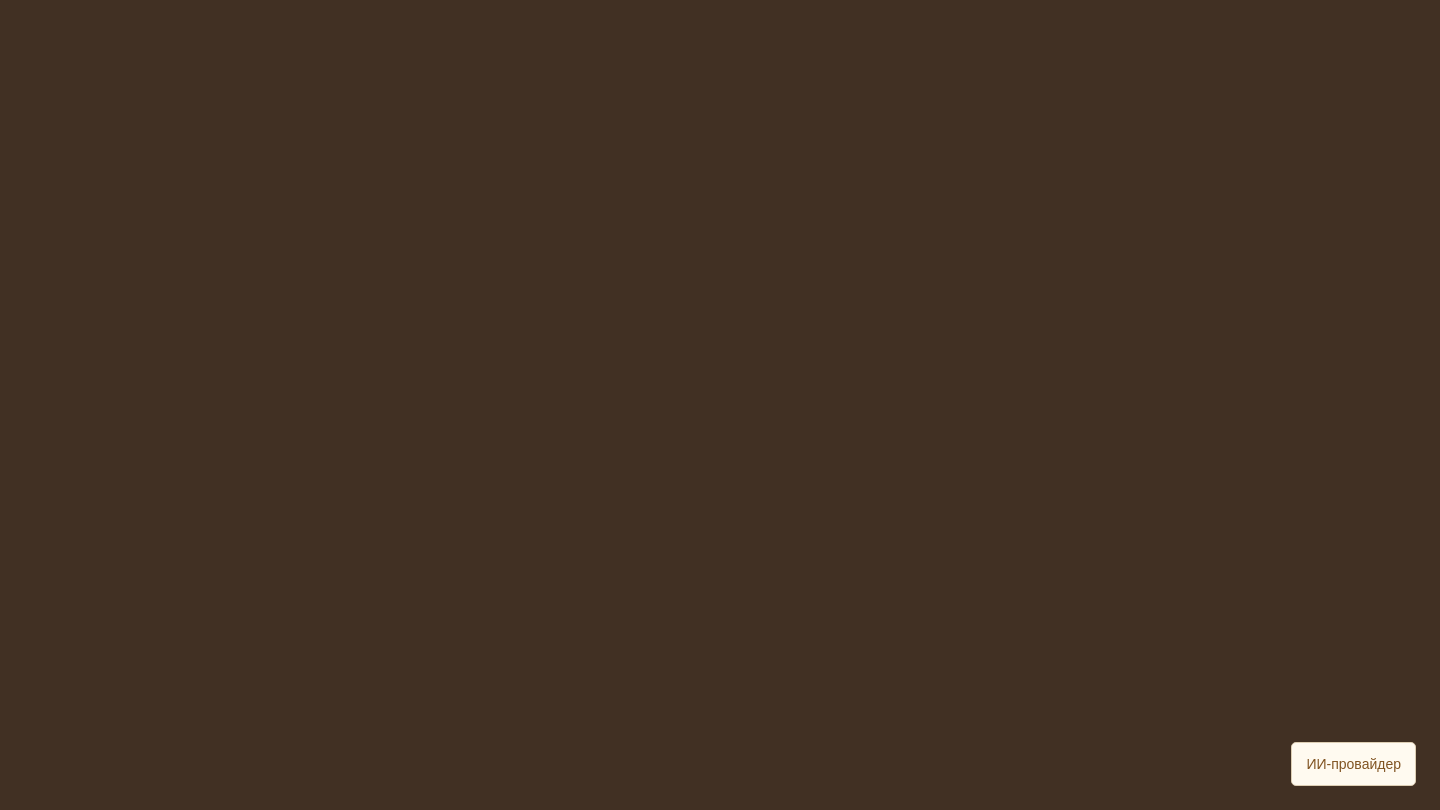
has labelled controls and hides rejected error details
Press Tab
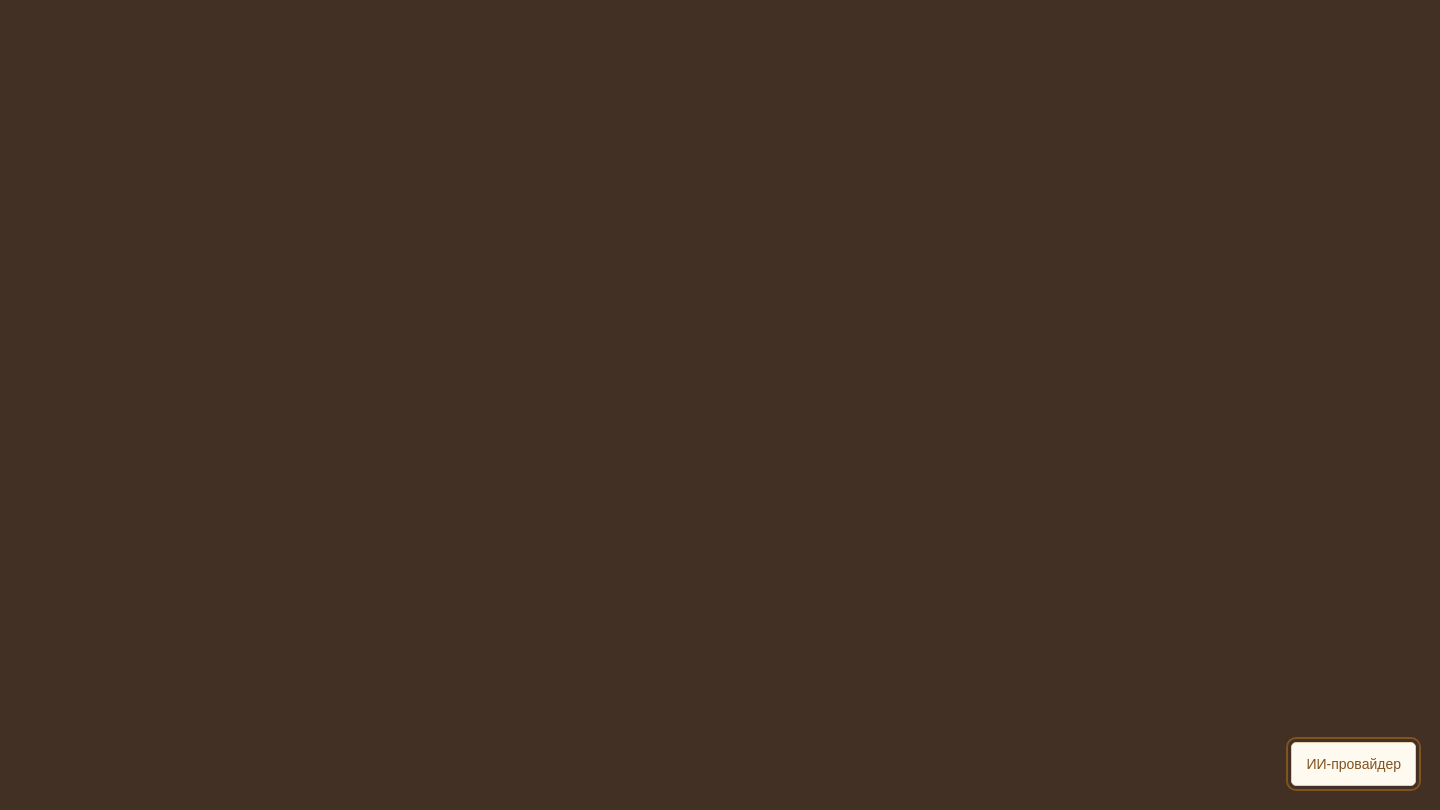
Press Enter
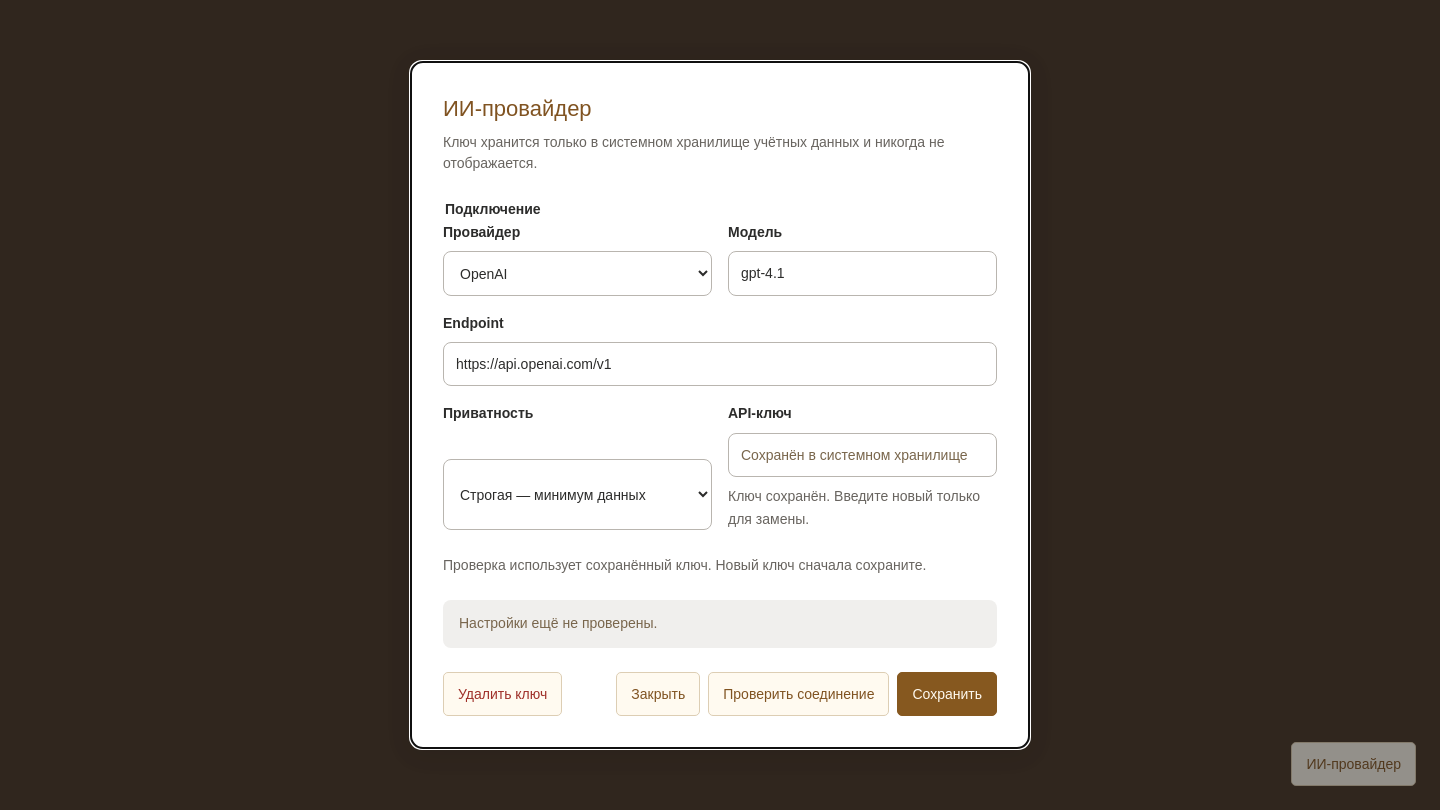
Check: the dropdown labelled "Провайдер" is shown, box x1=443 y1=251 x2=712 y2=296
Check: the field labelled "Endpoint" is shown, box x1=443 y1=342 x2=997 y2=386
Check: the dropdown labelled "Приватность" is shown, box x1=443 y1=459 x2=712 y2=530
Click the button "Проверить соединение" at (799, 694), box x1=708 y1=672 x2=890 y2=716
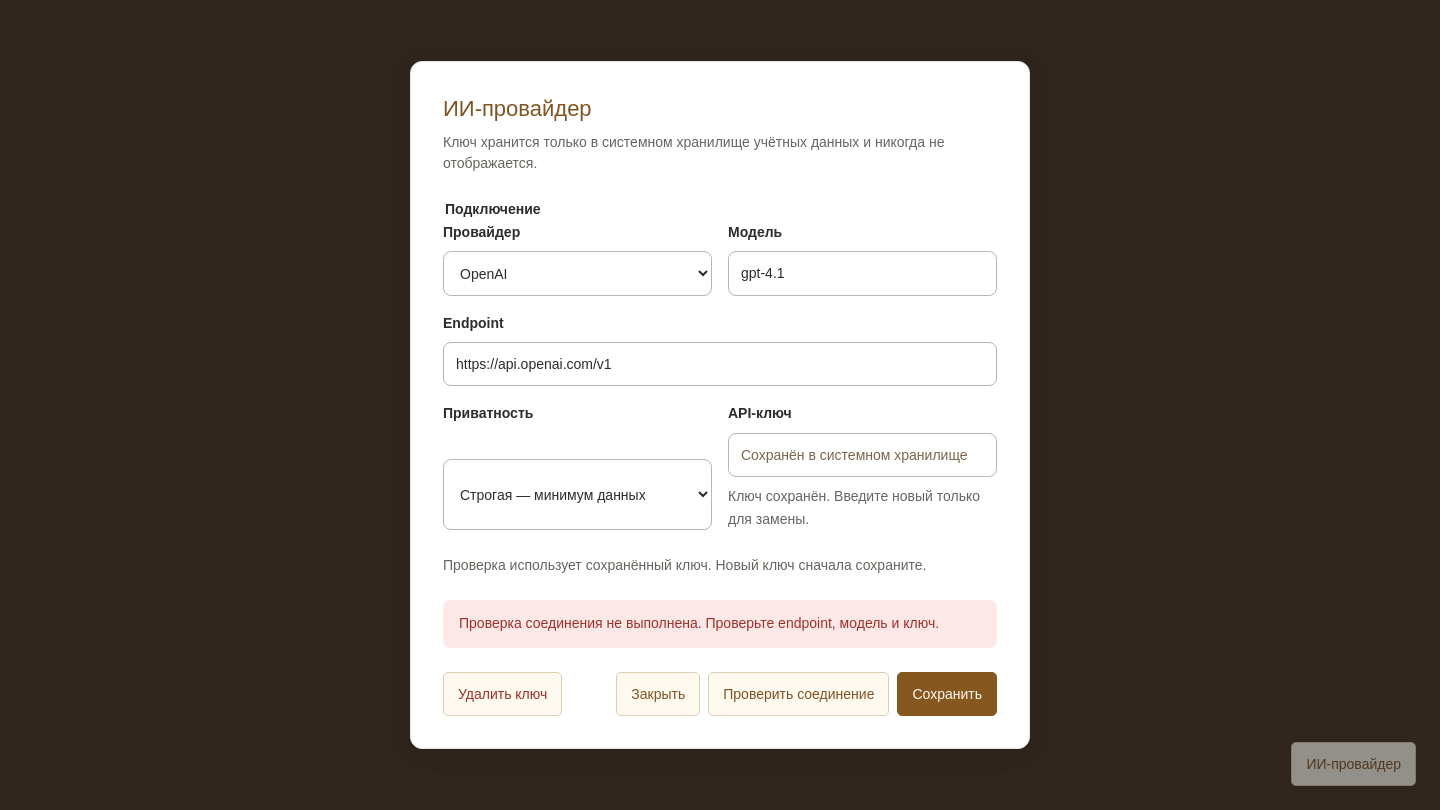
Check: the message "Проверка соединения не выполнена. Проверьте endpoint, модель и ключ." is shown, box x1=443 y1=600 x2=997 y2=648
